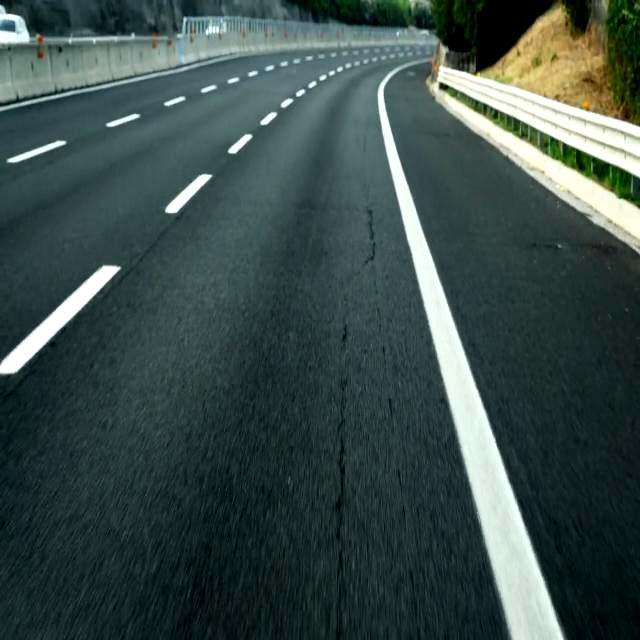lane: (376, 58, 563, 637), (1, 267, 117, 374), (165, 174, 211, 213), (7, 141, 66, 163), (228, 134, 252, 153), (106, 114, 139, 127), (261, 113, 277, 125)
road: (2, 55, 508, 639), (388, 67, 638, 639)
